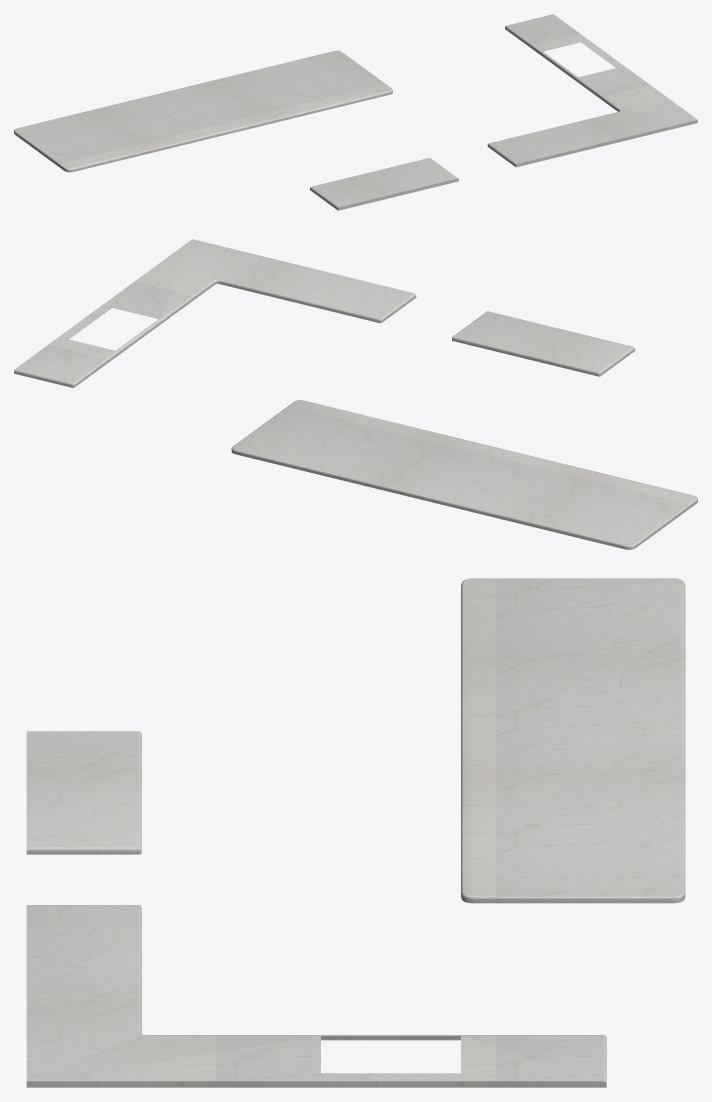
Rendered from Countertops_QuartzCalacattaKarmelo.glb.
The picture shows the model from 3 angles, top to bottom: view 1: azimuth 30°, elevation 25°; view 2: azimuth 150°, elevation 25°; view 3: azimuth 270°, elevation 25°; orthographic projection. The views are drawn at different scales.
Parts seen in each view (by area): view 1: Countertops_Quartz Calacatta Karmelo; view 2: Countertops_Quartz Calacatta Karmelo; view 3: Countertops_Quartz Calacatta Karmelo.
Part boxes in pixels (x1,y1,x2,y2): Countertops_Quartz Calacatta Karmelo: (14, 14, 697, 210); Countertops_Quartz Calacatta Karmelo: (14, 239, 697, 549); Countertops_Quartz Calacatta Karmelo: (26, 578, 685, 1087).
Size of the model in its own units: 8.6 by 0.09 by 4.7.
1 material, 1 textured.
